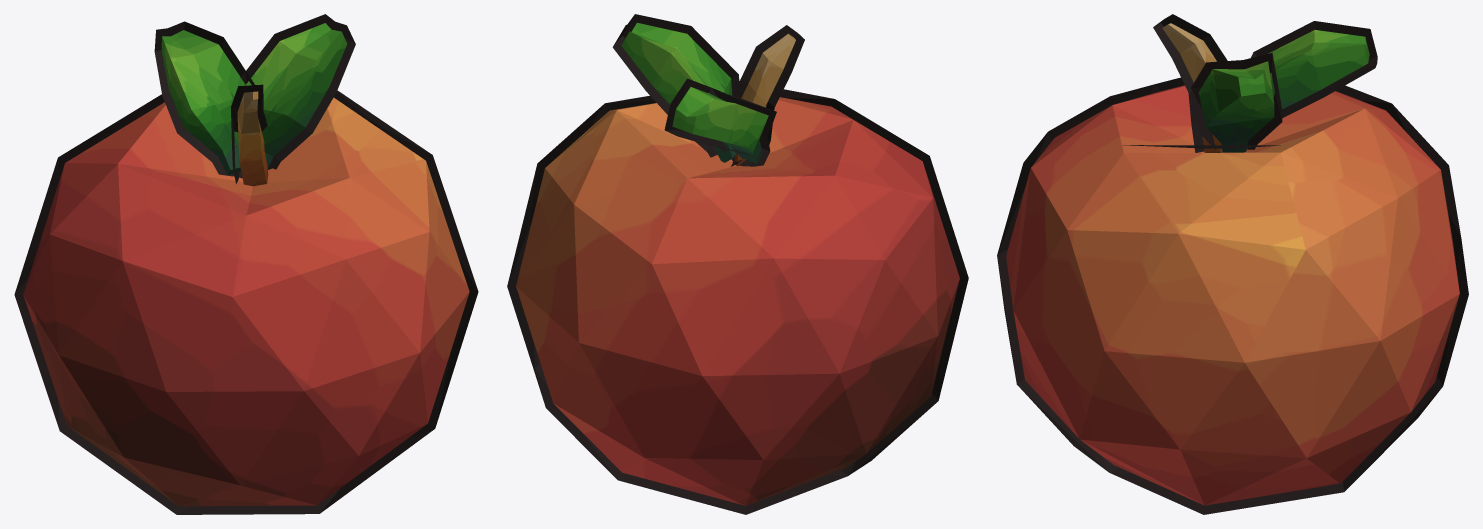
File: blonky_apple.glb
3 views of the same model, side by side, from view 1: azimuth 30°, elevation 25°; view 2: azimuth 150°, elevation 25°; view 3: azimuth 270°, elevation 25° (orthographic). The views are drawn at different scales.
Visible parts, largest first — view 1: Icosphere_2; view 2: Icosphere_2; view 3: Icosphere_2.
Boxes of the visible parts, x1=… form: Icosphere_2: x1=14, y1=14, x2=478, y2=514; Icosphere_2: x1=507, y1=14, x2=968, y2=514; Icosphere_2: x1=997, y1=14, x2=1468, y2=514.
Bounding box in the file's own units: 2.07 × 2.13 × 2.01.
4 materials, 3 textured.
